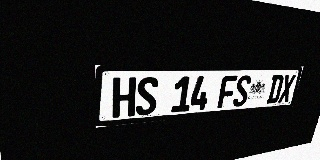1: (171, 76, 193, 113)
4: (189, 76, 211, 111)
D: (266, 75, 285, 104)
F: (217, 76, 238, 108)
H: (112, 77, 136, 118)
S: (135, 77, 159, 116), (232, 75, 252, 107)
X: (278, 75, 296, 103)
